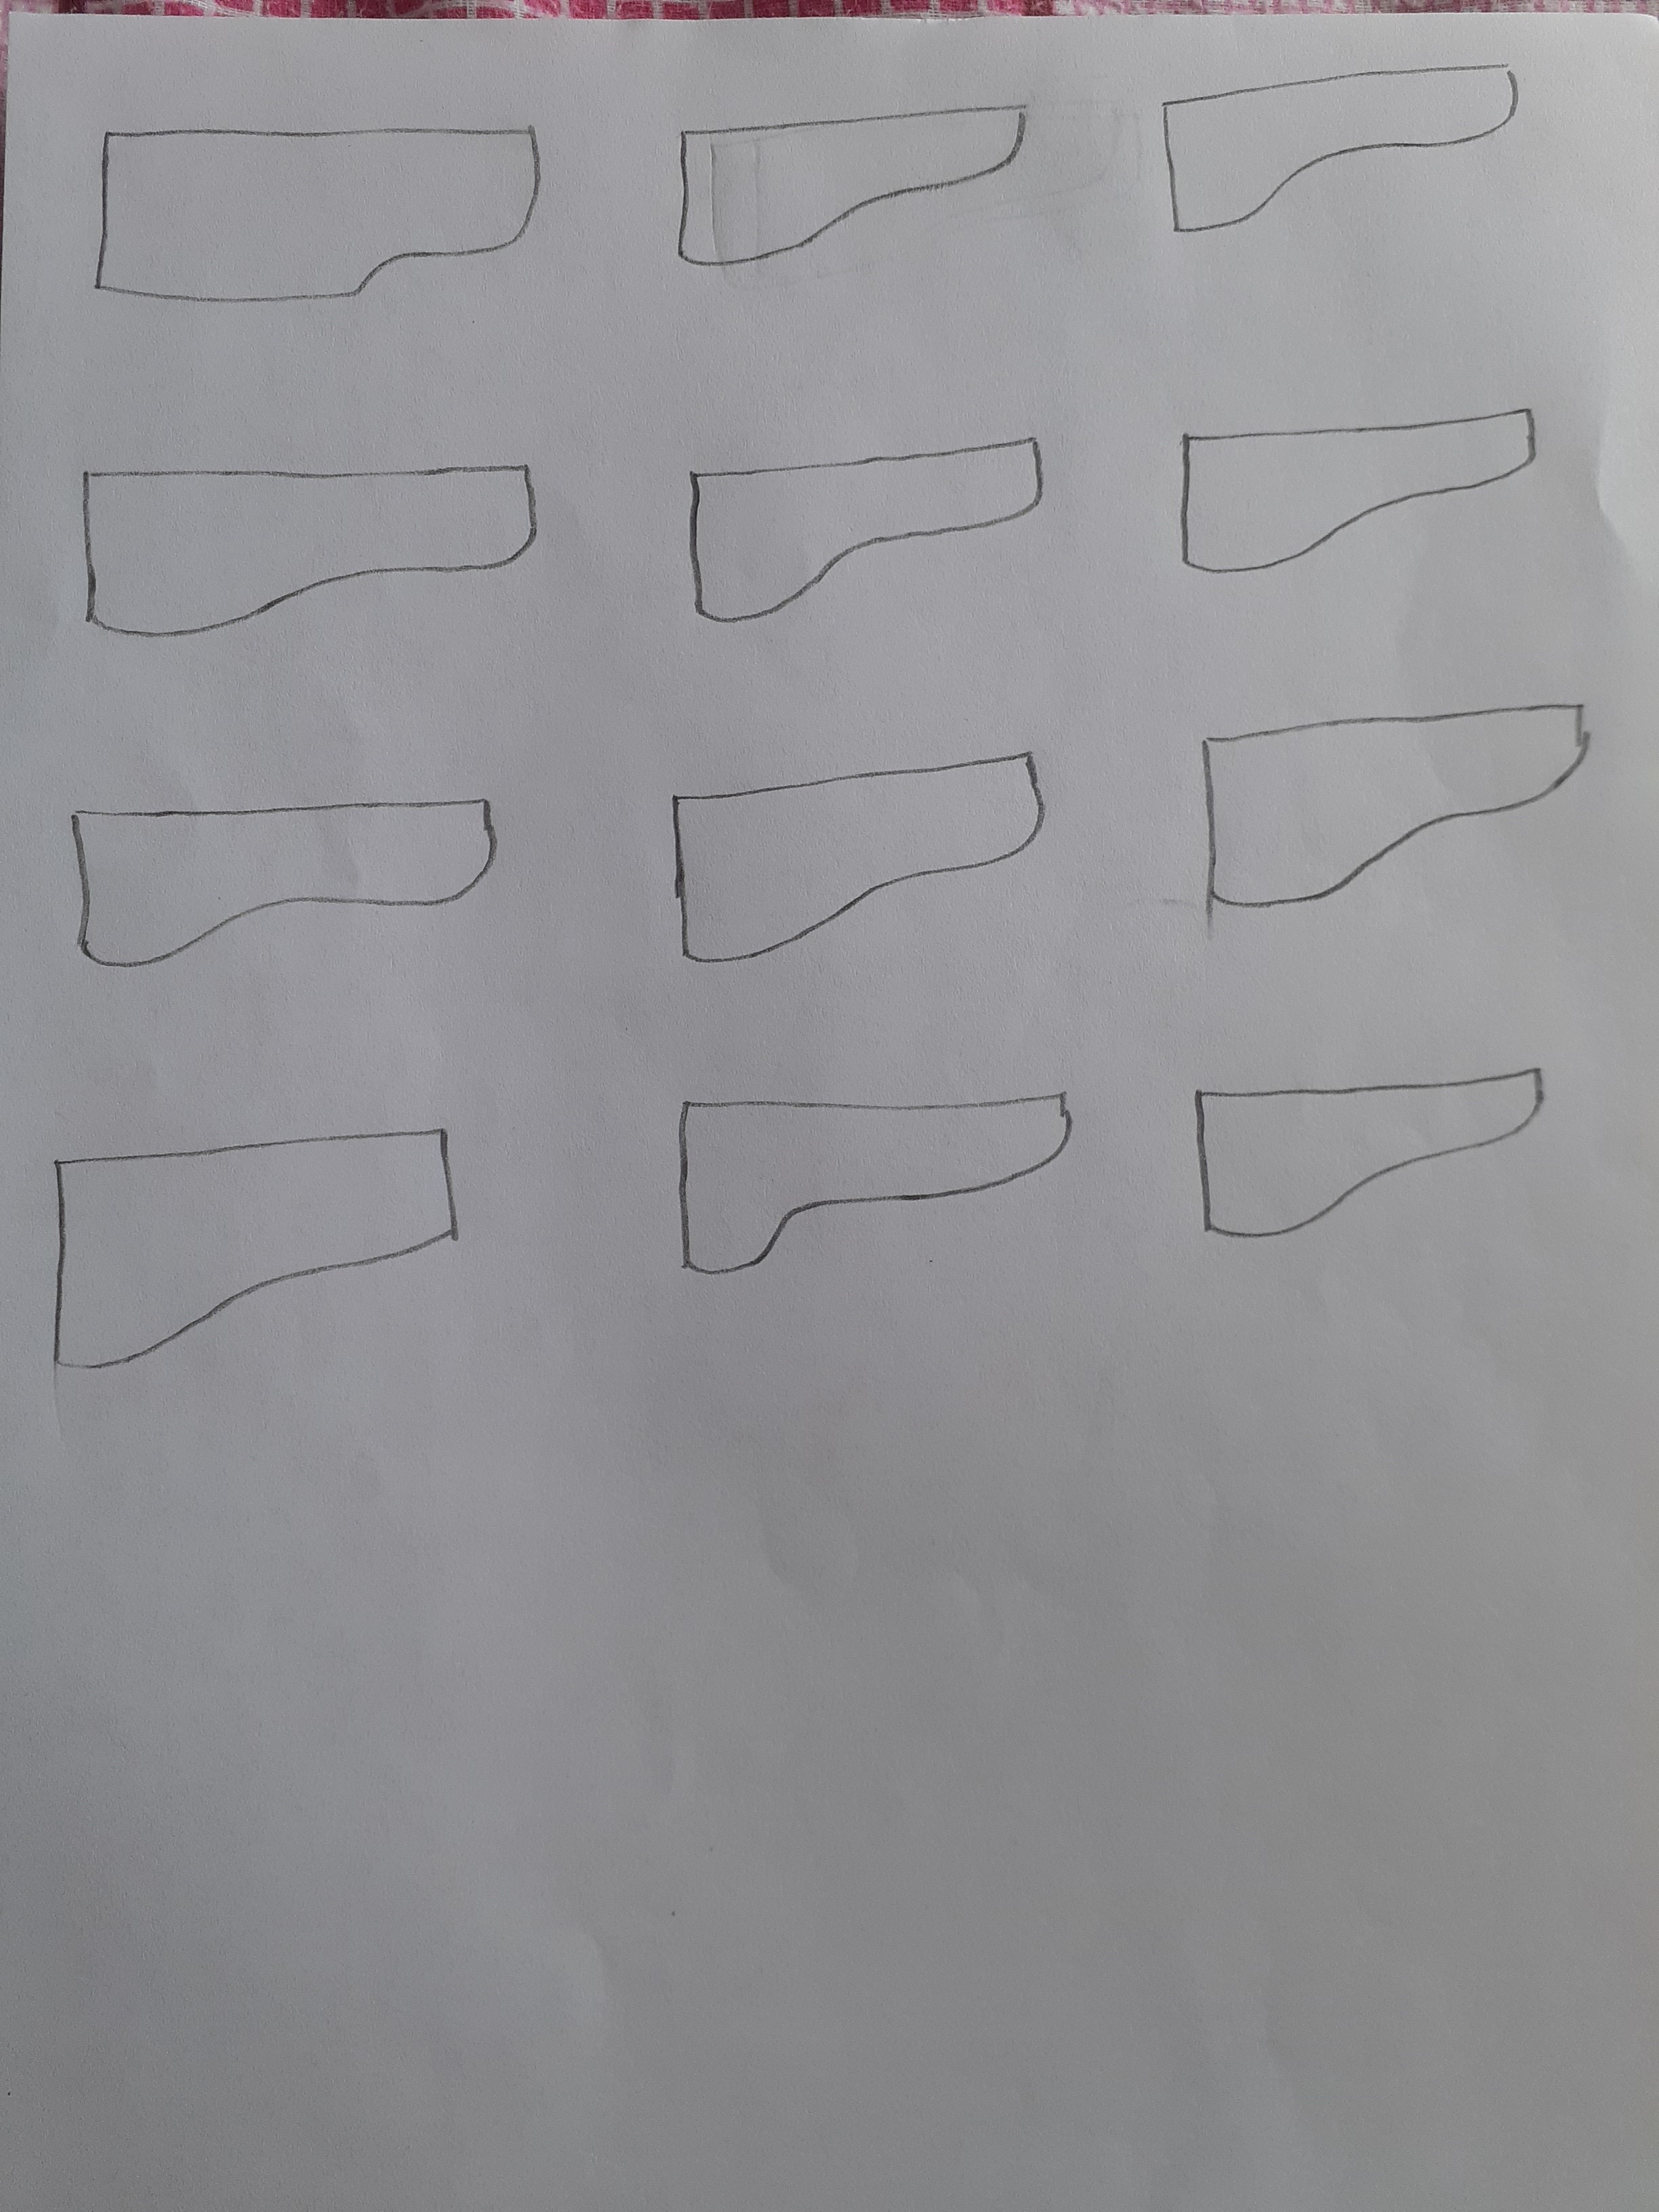print: (21, 1106, 491, 1385), (78, 89, 570, 340), (52, 758, 526, 1005), (64, 435, 556, 662), (1162, 686, 1600, 941), (638, 1069, 1101, 1303), (631, 744, 1068, 977), (1119, 42, 1535, 275), (652, 425, 1075, 641), (1143, 381, 1570, 590), (641, 89, 1054, 279), (1176, 1062, 1577, 1256)
